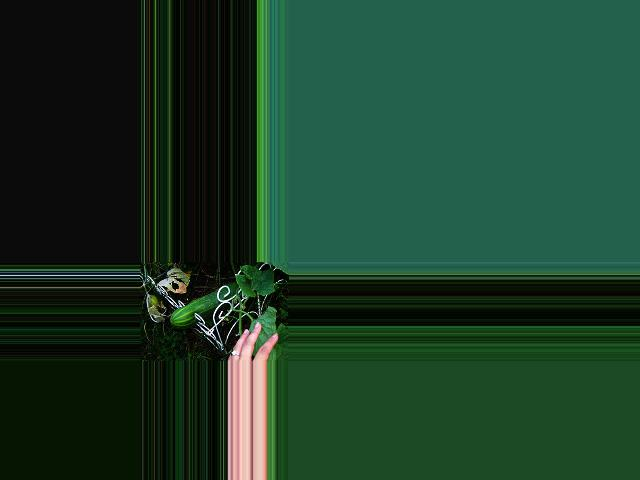cucumber: (170, 282, 239, 329)
